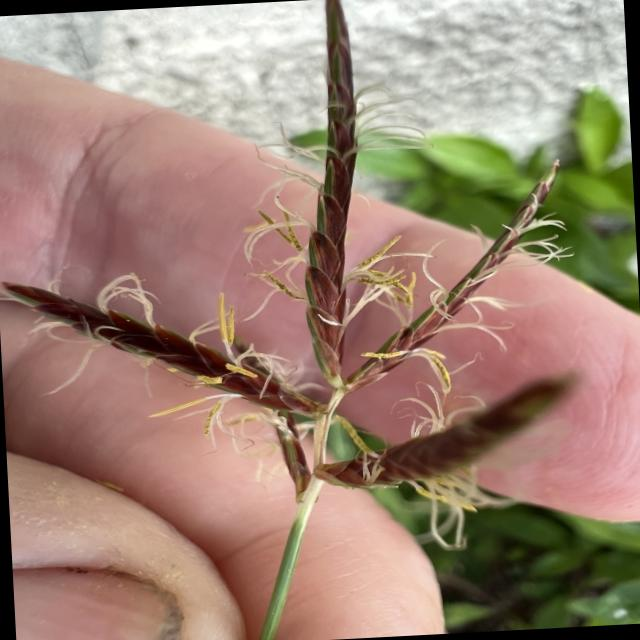cyperus: (0, 0, 596, 548)
